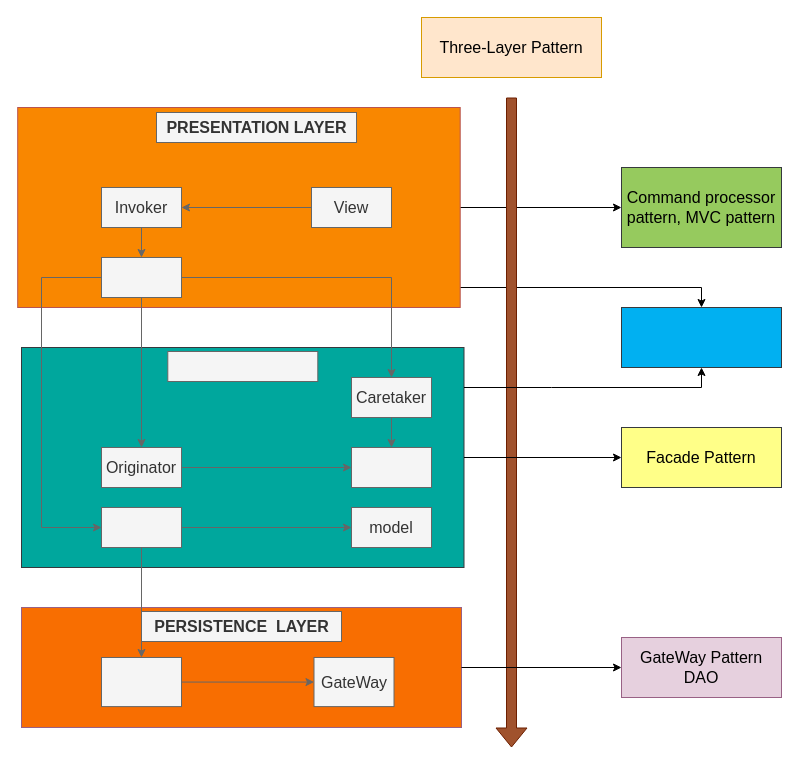
The diagram is 799 pixels wide and 765 high, and some of its shapes have lost their labels. The shapes that lost their labels are listed below. From the top down, each one's centre as x and y in pixels, then its label:
At [141,277]: "Command".
At [701,337]: "Observer Pattern".
At [242,366]: "DOMAIN LAYER".
At [391,467]: "Memento".
At [141,527]: "Service".
At [141,681]: "DAO".
